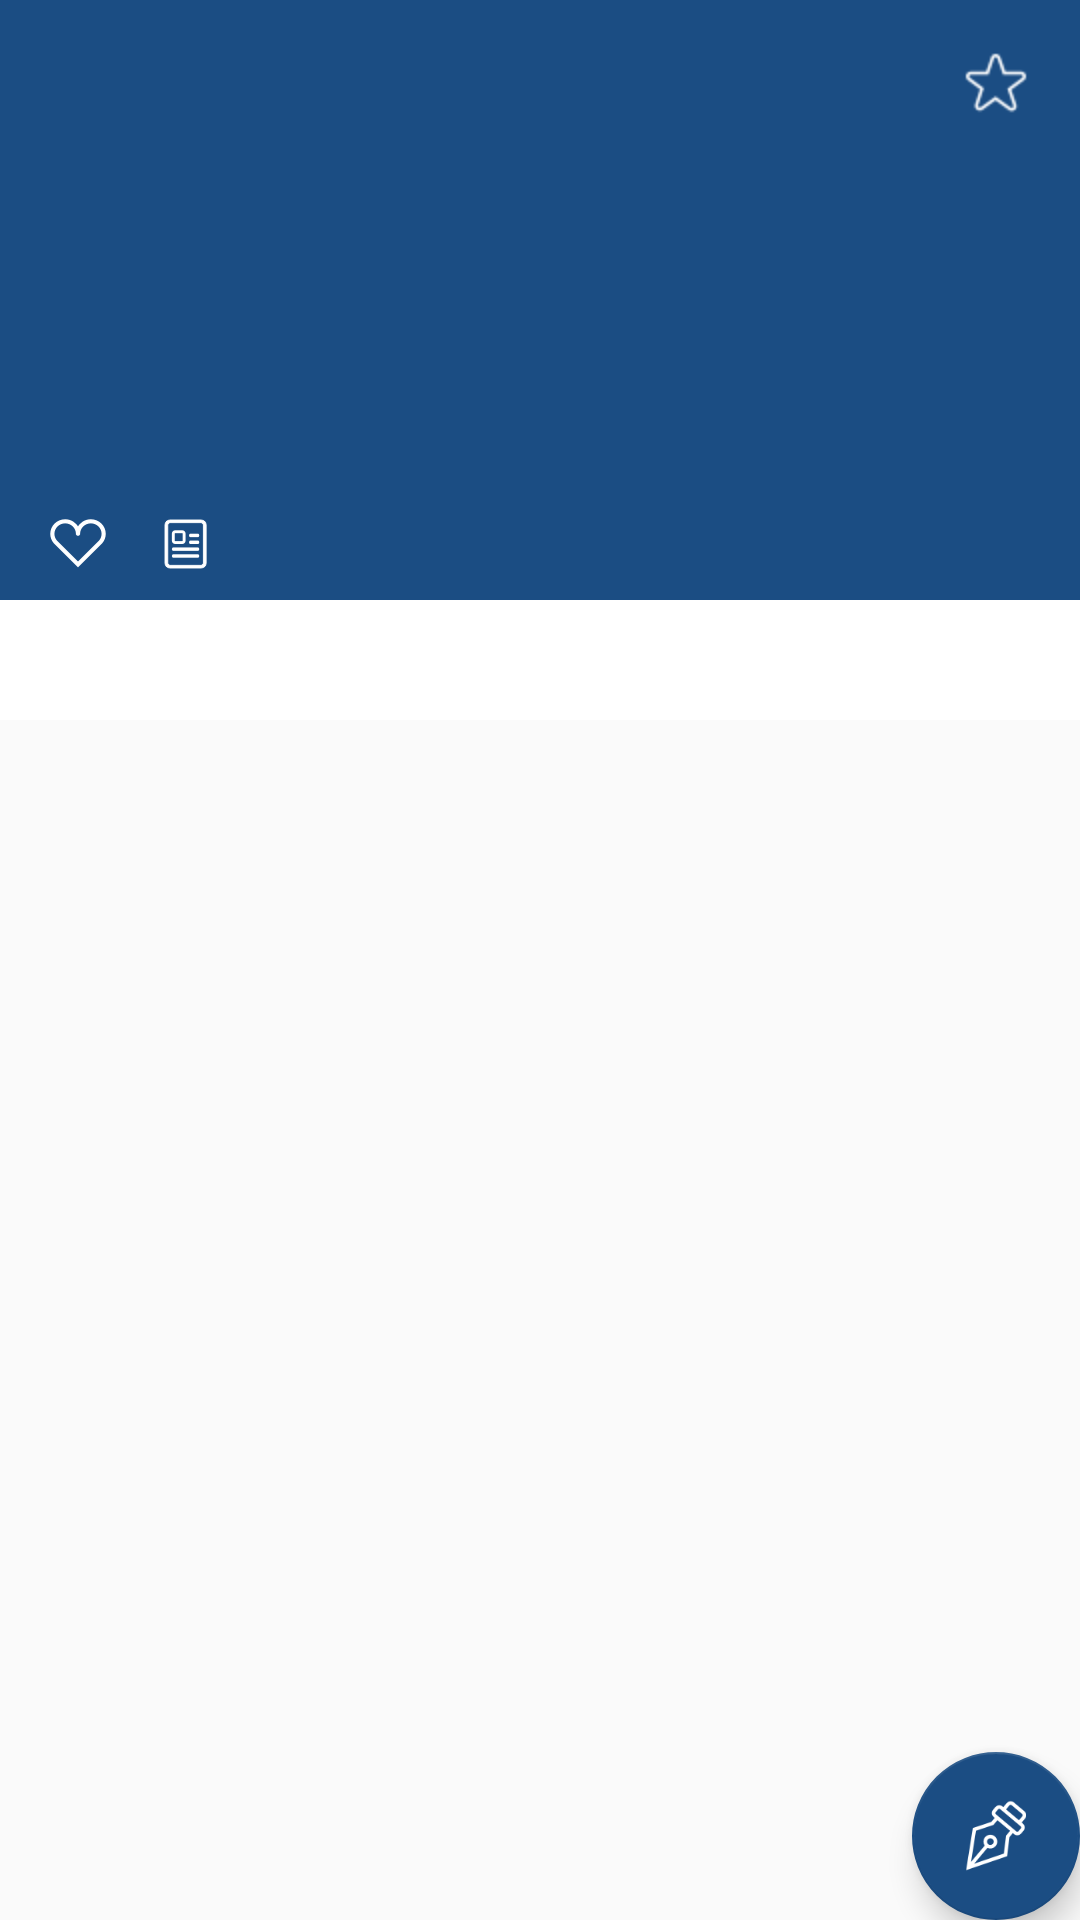

Named icons in this screenshot (1080w x 1920h) and their centers, (x,y):
feed: (185,544)
heart: (78,543)
raw star off: (996,82)
